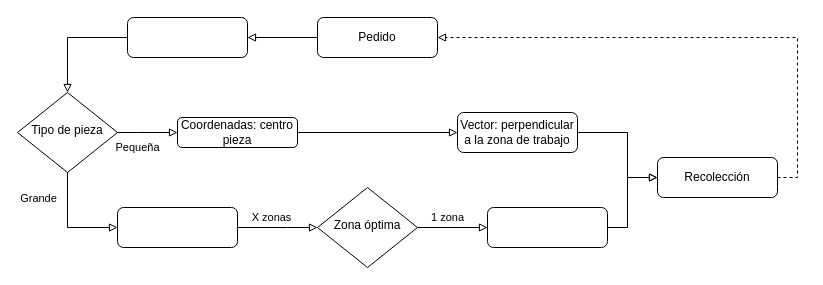
Image size: 823x285. Some labels were removed from this diagram. Here are the shapes that lost their labels. From the top down, the box of each, then its label:
(126, 16, 248, 58): Detección (YOLO)
(116, 206, 238, 248): Zonas de Agarre (TINY YOLO)
(486, 206, 608, 248): Punto de agarre (Regresor)
